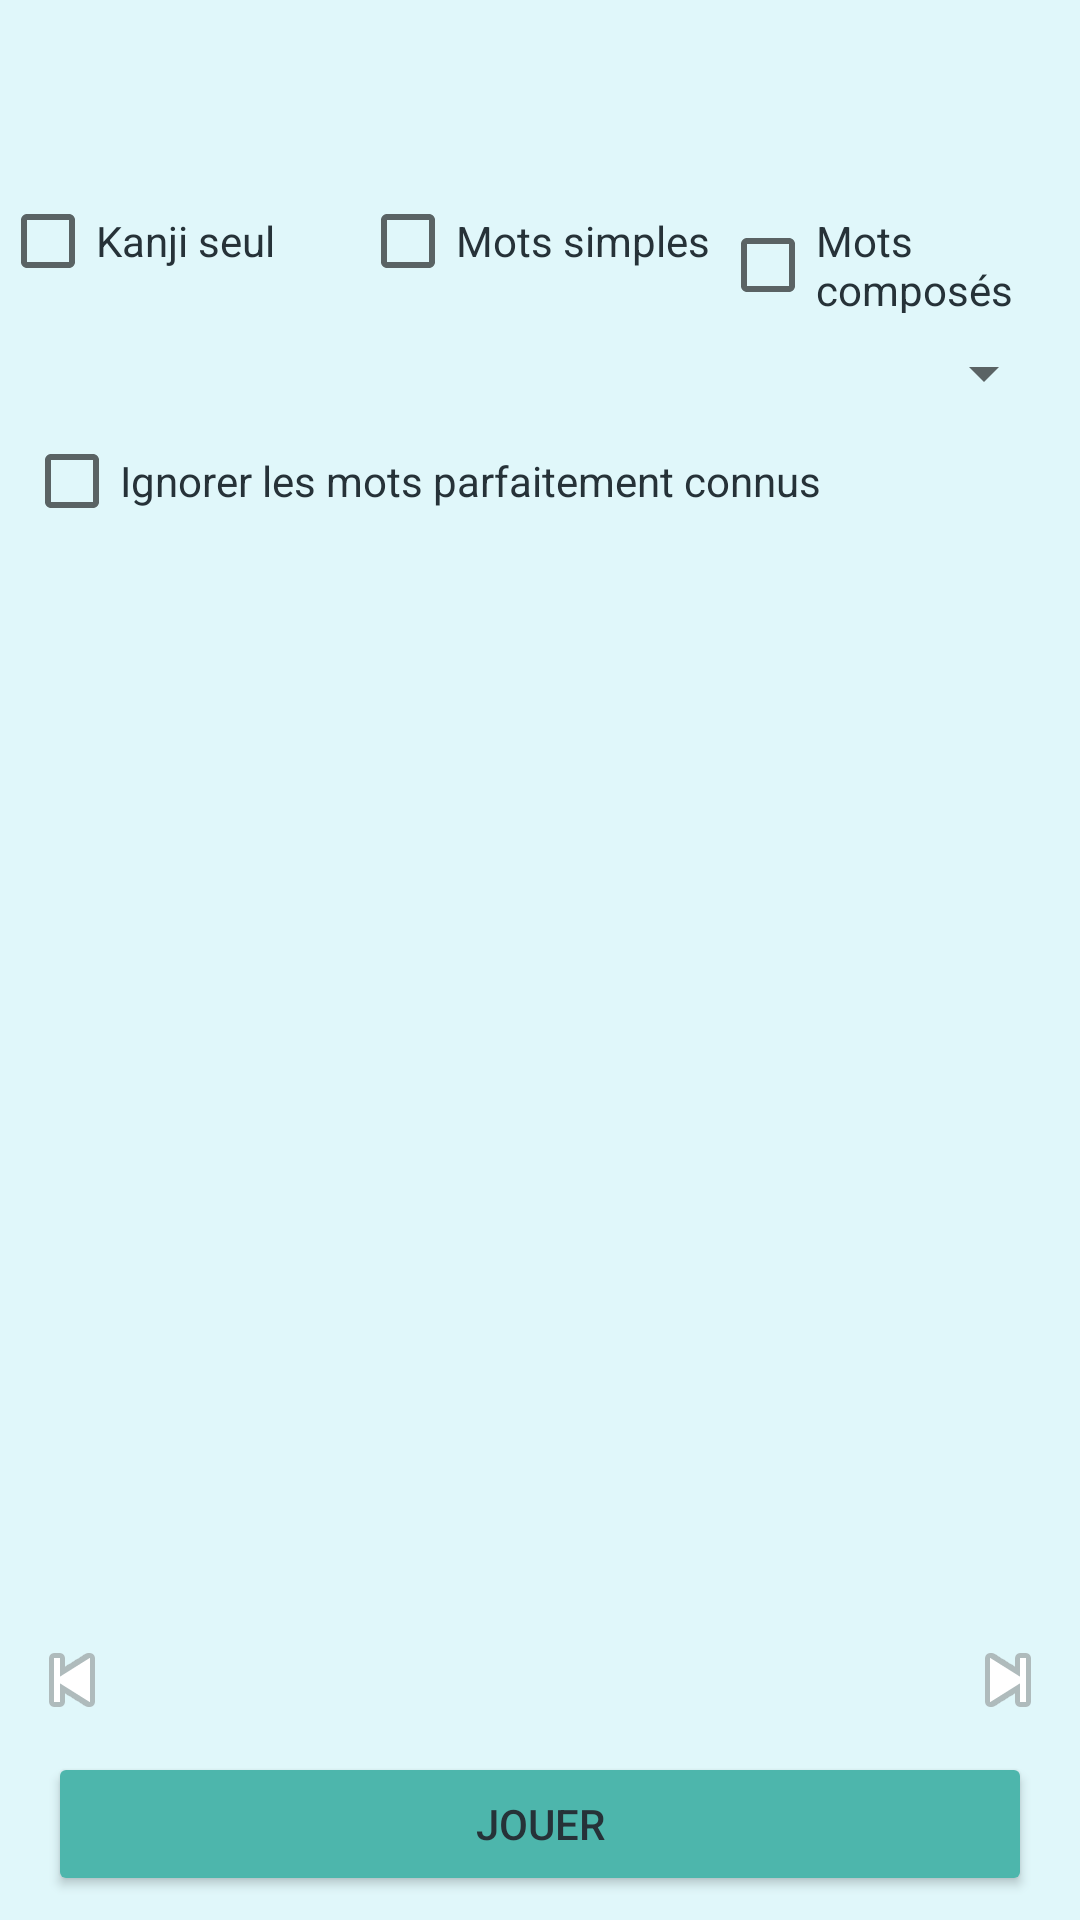

Screen size 1080px×1920px. Icon name, then its box in pixels as [x1, y1, x2, y2]:
next: [985, 1653, 1031, 1707]
previous: [49, 1653, 95, 1707]
